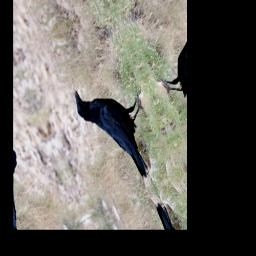Crow: (69, 59, 172, 198)
